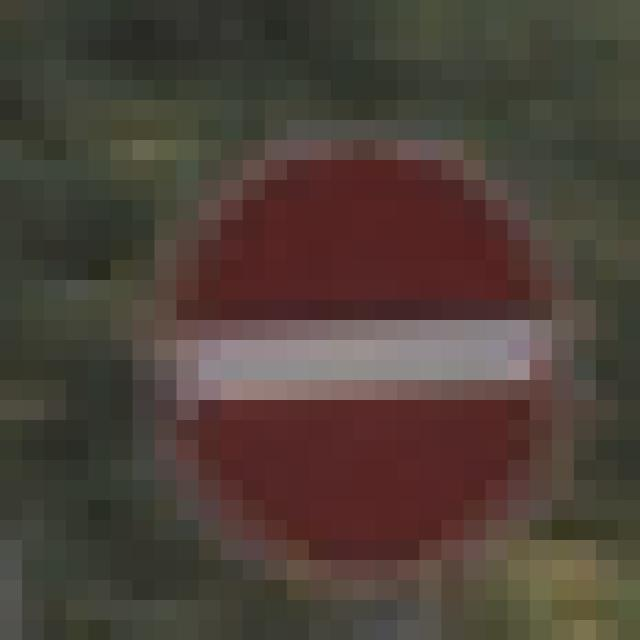No Entry: (134, 101, 531, 541)
